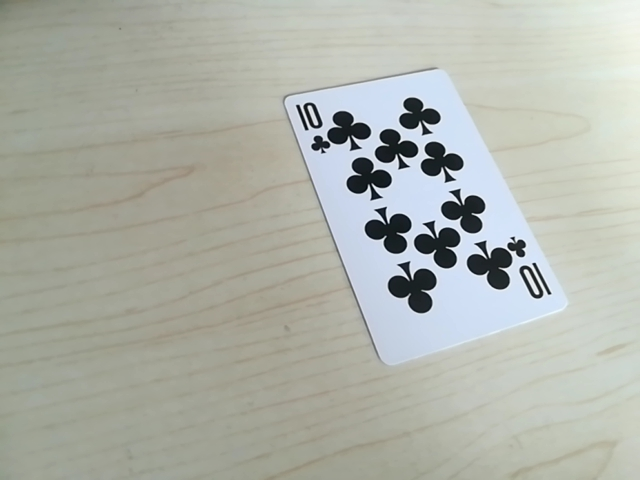mh 10: (506, 237, 549, 299), (291, 100, 332, 151)
